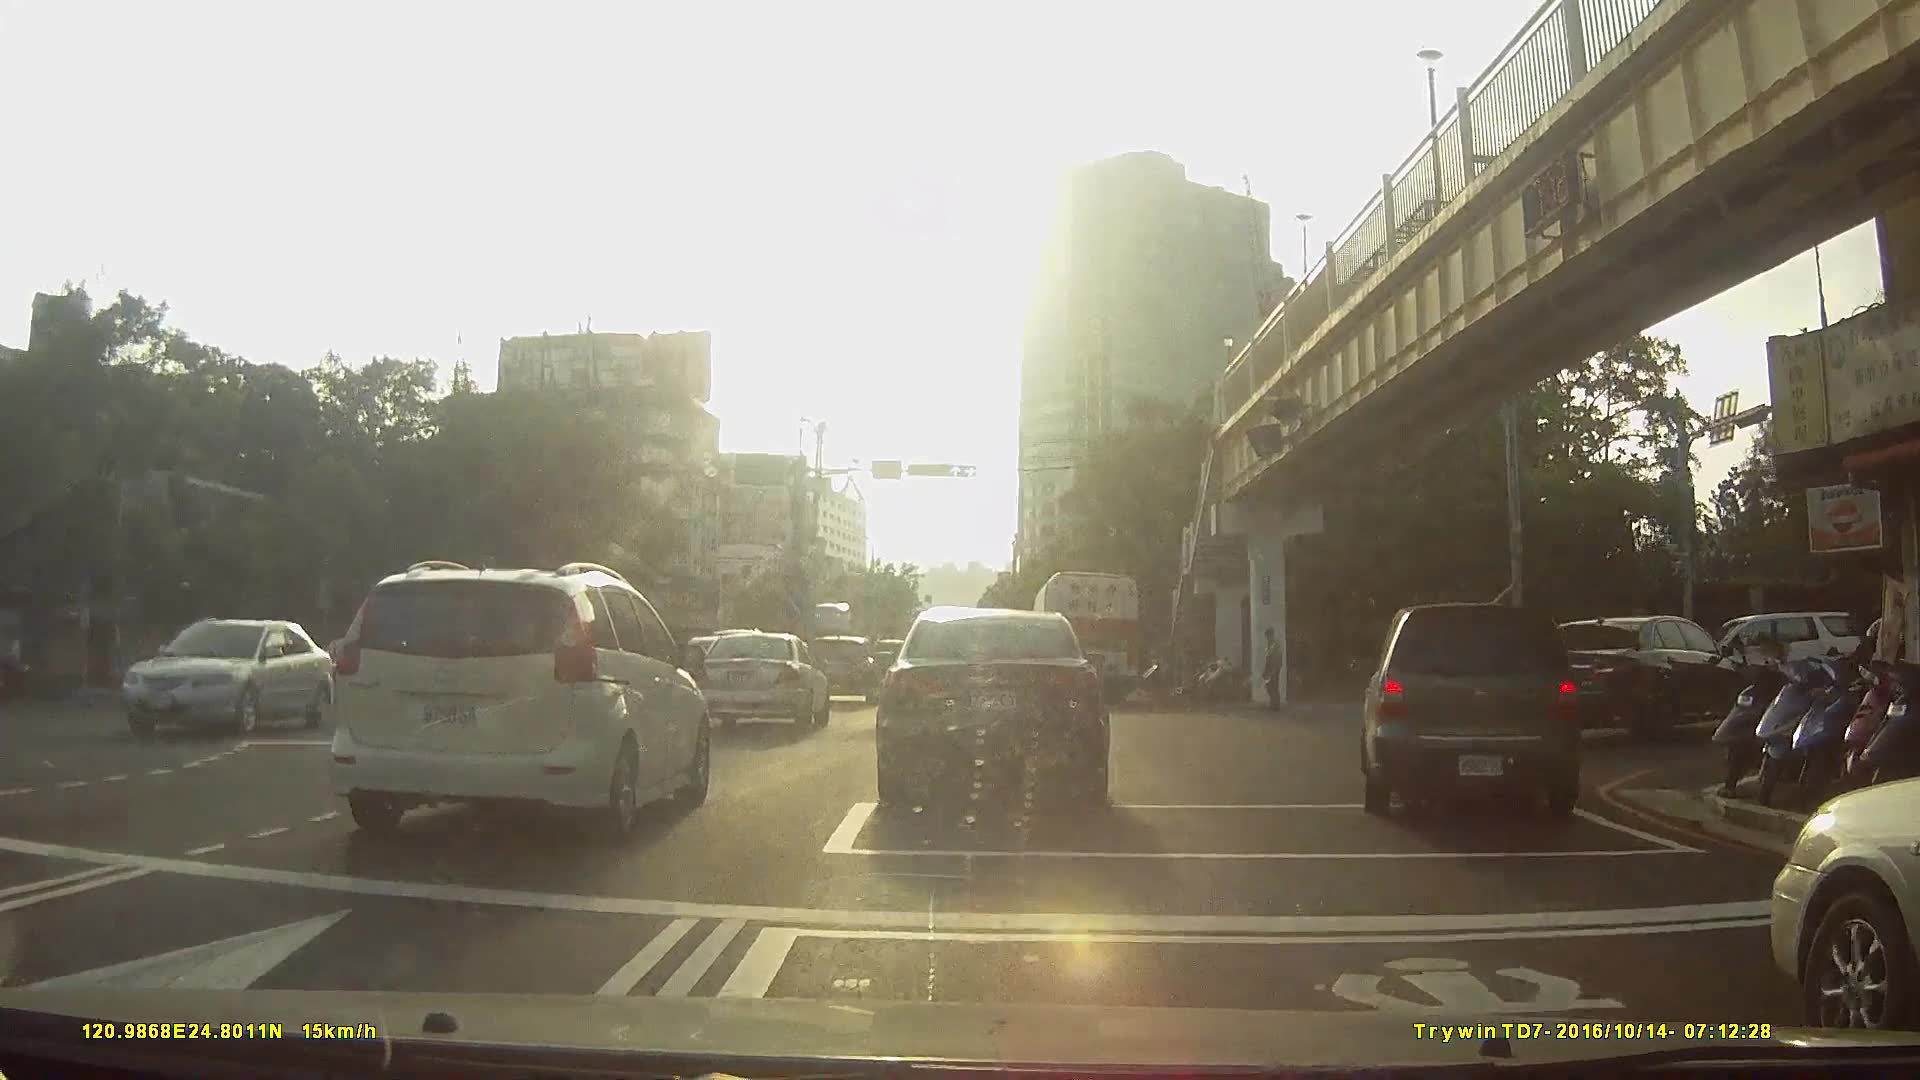pedestrian: (1257, 626, 1292, 714)
vehicle: (329, 555, 714, 842), (1347, 594, 1596, 821), (879, 597, 1111, 813), (1532, 613, 1798, 737), (120, 610, 349, 731), (1030, 565, 1141, 701), (696, 628, 832, 732), (808, 632, 884, 703)
